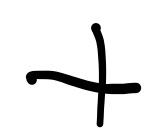plus: (27, 22, 140, 128)
